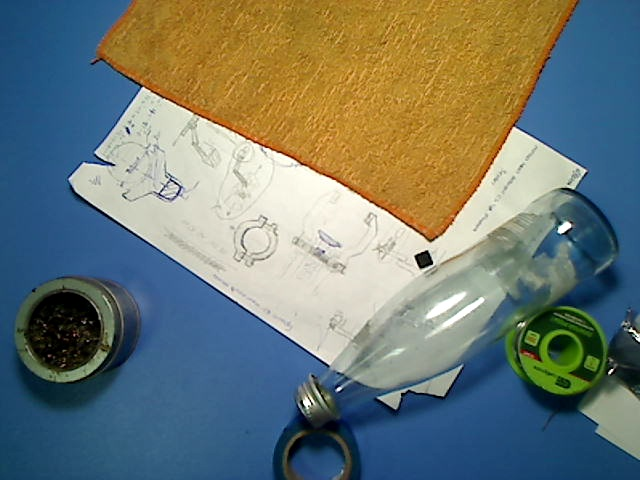bottle: (293, 186, 622, 429)
